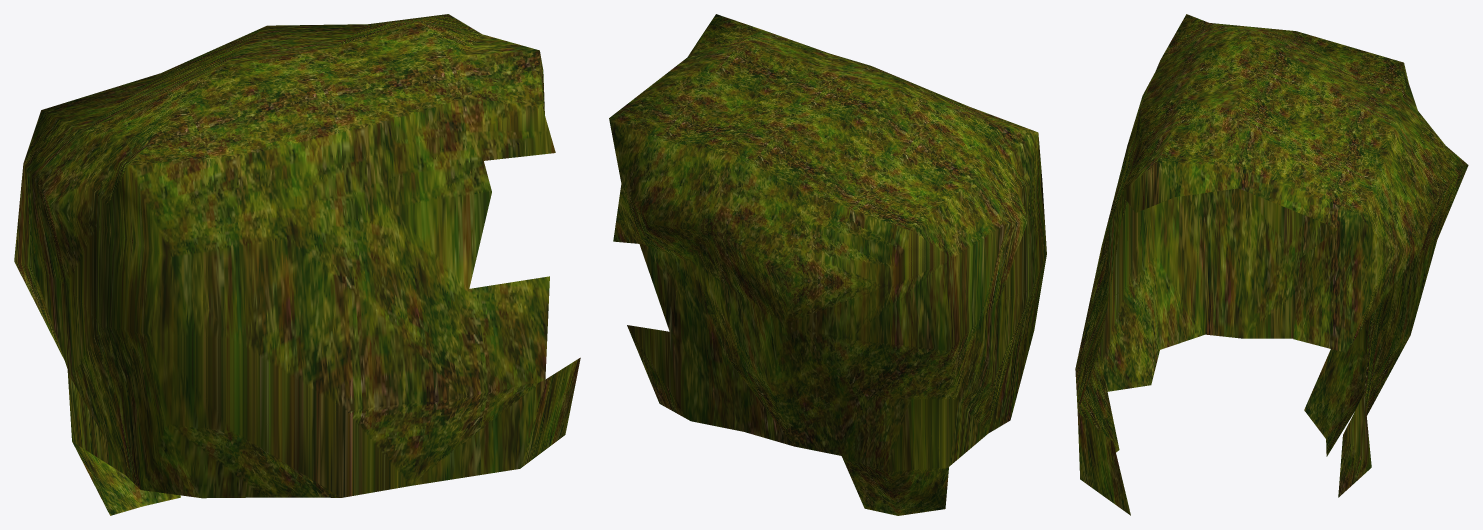
File: TROLLHOLE02_BOX326.fbx
The picture shows the model from 3 angles, left to right: view 1: azimuth 30°, elevation 25°; view 2: azimuth 150°, elevation 25°; view 3: azimuth 270°, elevation 25°; orthographic projection. The views are drawn at different scales.
Parts seen in each view (by area): view 1: TROLLHOLE02_BOX326; view 2: TROLLHOLE02_BOX326; view 3: TROLLHOLE02_BOX326.
Boxes of the visible parts, bbox=[...] form: TROLLHOLE02_BOX326: bbox=[14, 14, 580, 515]; TROLLHOLE02_BOX326: bbox=[609, 14, 1046, 515]; TROLLHOLE02_BOX326: bbox=[1075, 14, 1468, 515].
Size of the model in its own units: 102977 by 97503 by 80743.
1 material, 1 textured.
